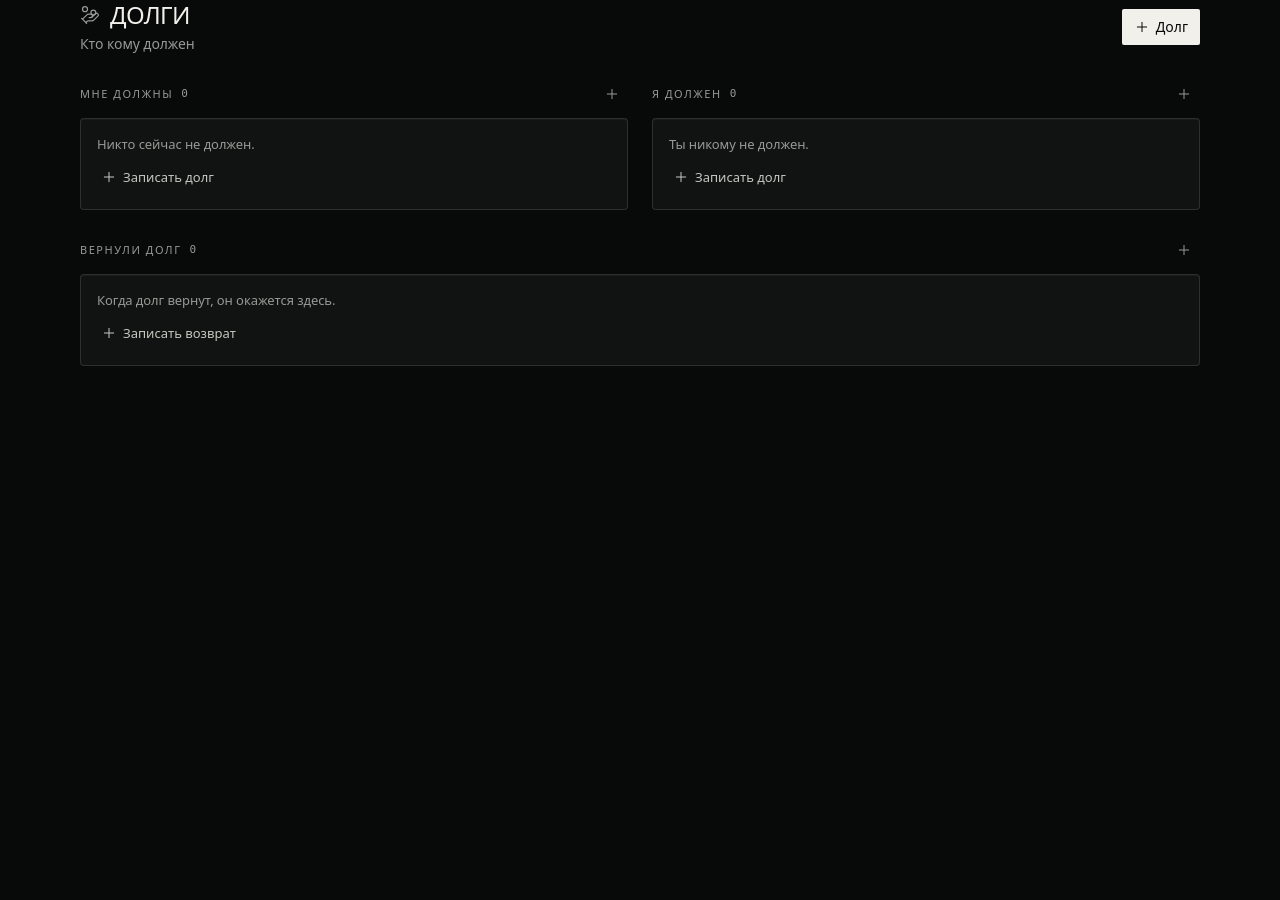
Test: DebtsPage › the empty block has its own button to write a return
Click the button "Записать возврат" at (168, 333), box x1=89 y1=317 x2=248 y2=349
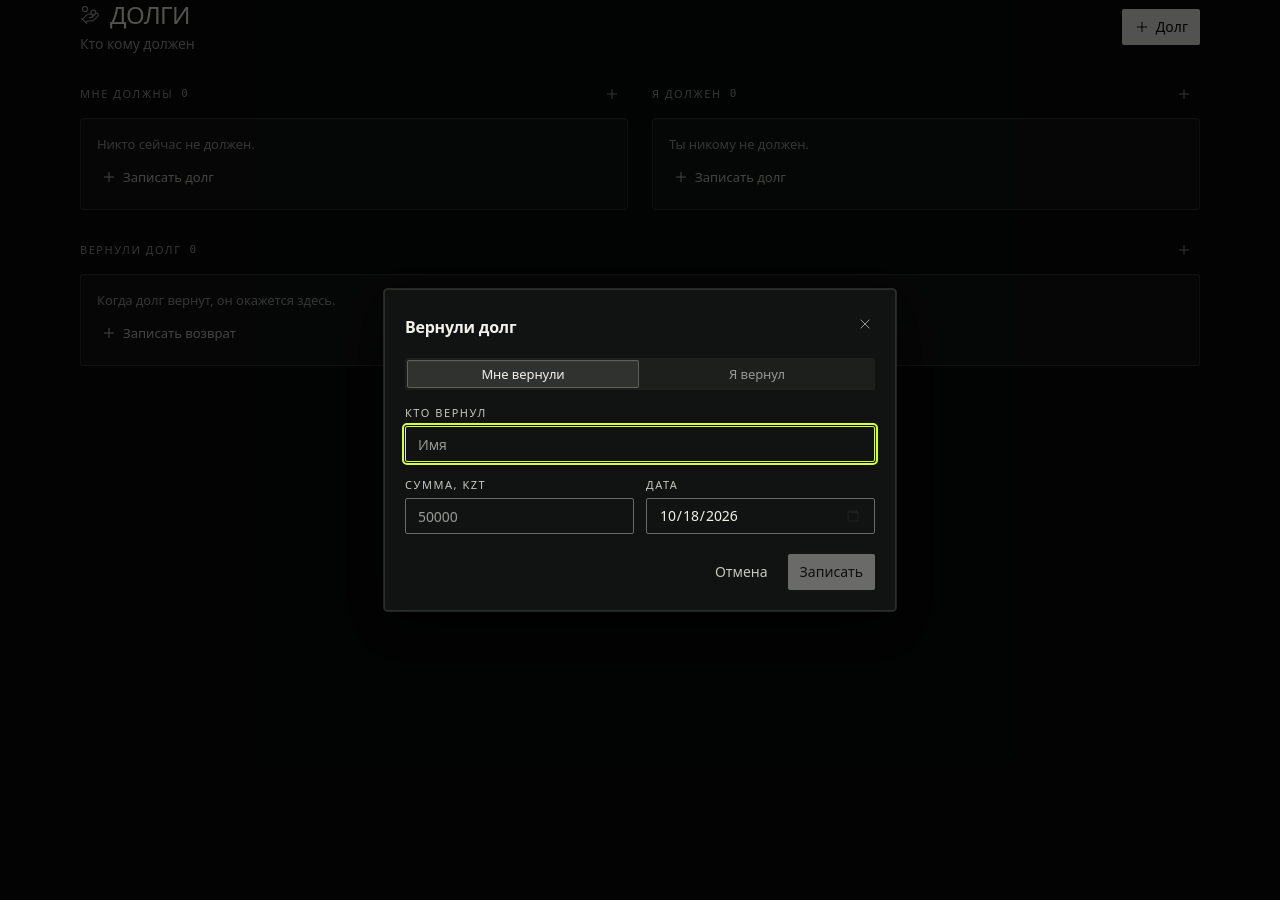
Now the dialog "Вернули долг" is shown, box x1=384 y1=289 x2=896 y2=611
